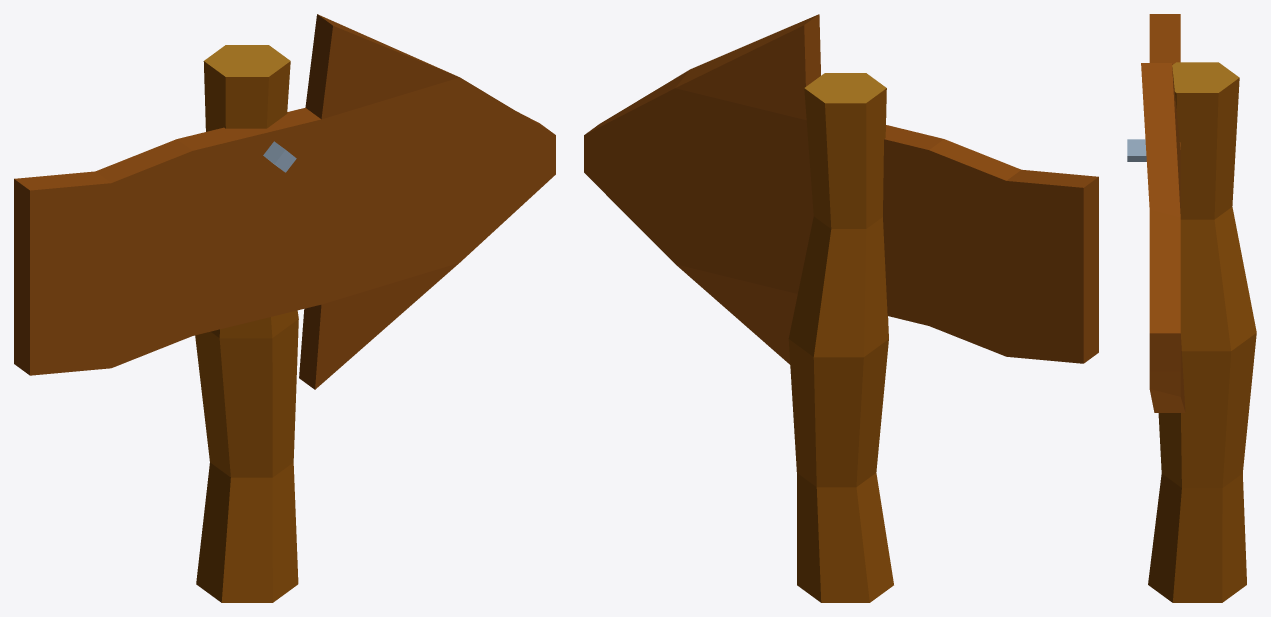
File: sign_3.fbx
3 views of the same model, side by side, from view 1: azimuth 30°, elevation 25°; view 2: azimuth 150°, elevation 25°; view 3: azimuth 270°, elevation 25° (orthographic). The views are drawn at different scales.
Visible parts, largest first — view 1: sign_3; view 2: sign_3; view 3: sign_3.
Boxes of the visible parts, x1,y1,x2,y2 form: sign_3: (14,14,555,602); sign_3: (584,14,1098,602); sign_3: (1127,14,1256,602).
Size of the model in its own units: 323 by 332 by 71.15.
